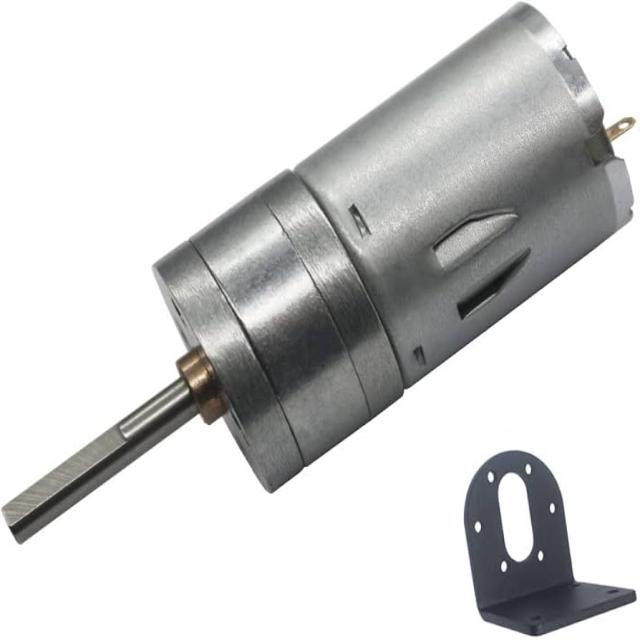motor: (20, 22, 637, 490)
